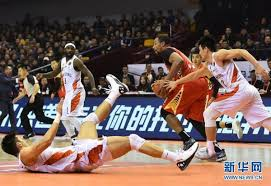10+: (1, 1, 271, 172)
down: (7, 75, 197, 171)
